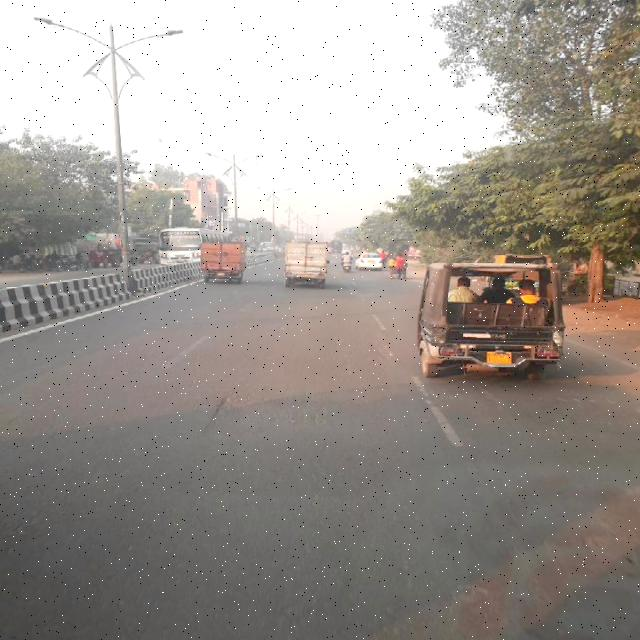D00: (199, 391, 232, 438)
D44: (407, 369, 473, 457)
